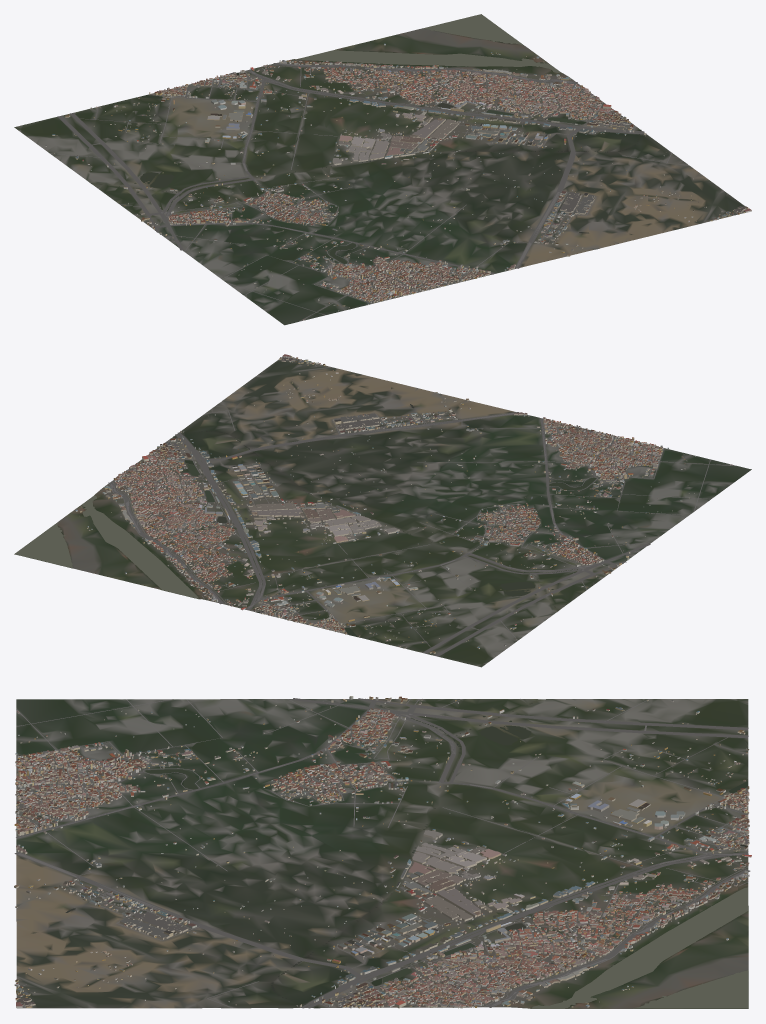
3 renders of one model, top to bottom at view 1: azimuth 30°, elevation 25°; view 2: azimuth 150°, elevation 25°; view 3: azimuth 270°, elevation 25°, orthographic. The views are drawn at different scales.
Visible parts, largest first — view 1: ground, buildings, roads, water; view 2: ground, buildings, roads, water; view 3: ground, buildings, roads, water.
Boxes of the visible parts, x1,y1,x2,y2 form: ground: (14, 28, 746, 325); buildings: (45, 43, 751, 320); roads: (50, 59, 743, 321); water: (91, 14, 641, 263); ground: (14, 357, 751, 667); buildings: (75, 354, 732, 653); roads: (108, 357, 736, 656); water: (15, 404, 623, 636); ground: (16, 699, 748, 1008); buildings: (14, 696, 751, 1008); roads: (14, 698, 750, 1008); water: (65, 698, 748, 1008).
Bounding box in the file's own units: 2815 × 31.75 × 2827.
